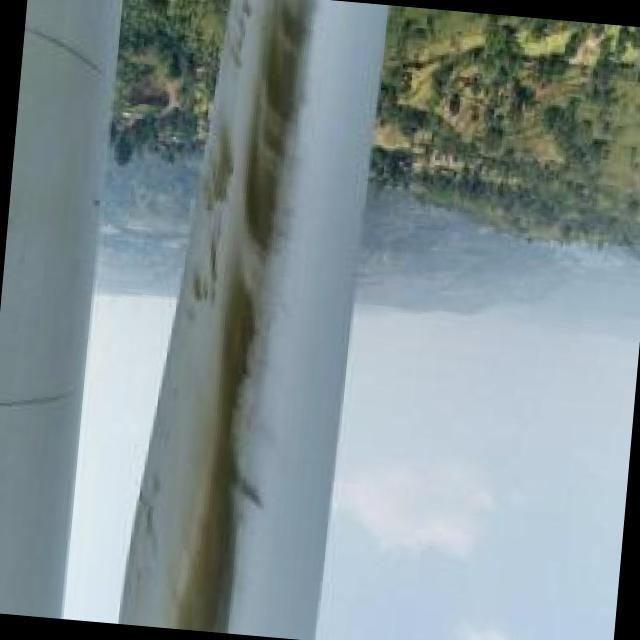Dirt: (122, 0, 316, 631)
